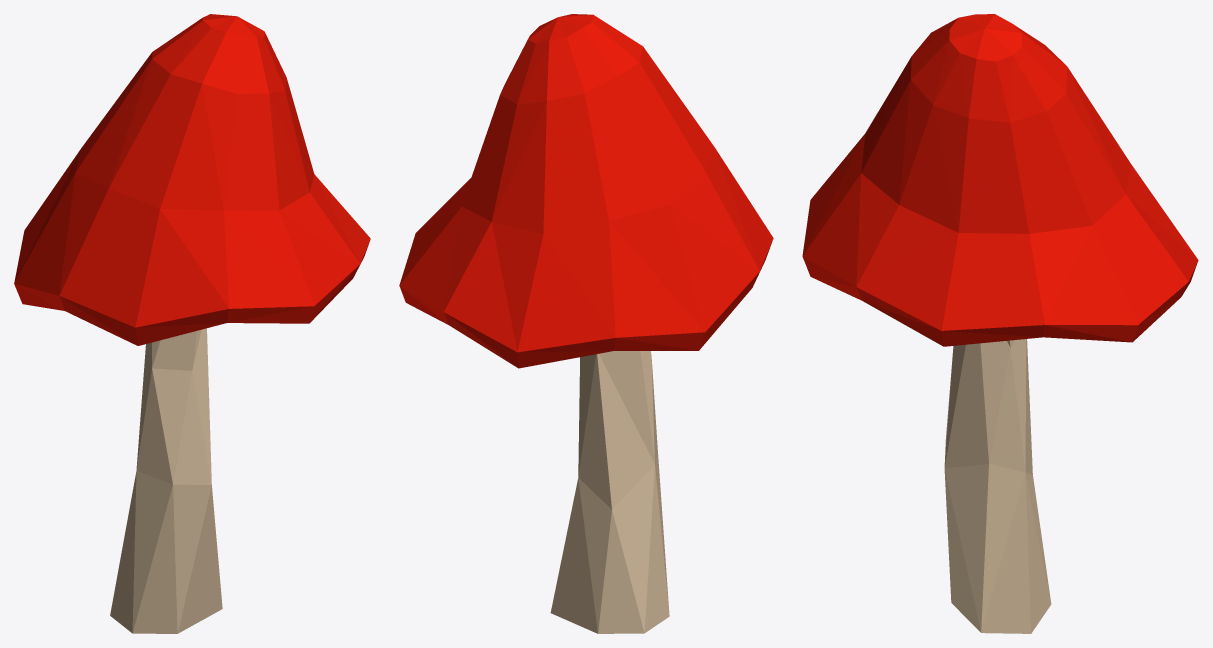
File: Mushroom 2_3.fbx
3 renders of one model, left to right at view 1: azimuth 30°, elevation 25°; view 2: azimuth 150°, elevation 25°; view 3: azimuth 270°, elevation 25°, orthographic. The views are drawn at different scales.
Parts seen in each view (by area): view 1: Mushroom 2_3; view 2: Mushroom 2_3; view 3: Mushroom 2_3.
Boxes of the visible parts, <box> form: Mushroom 2_3: <box>14,14,370,633</box>; Mushroom 2_3: <box>399,14,773,633</box>; Mushroom 2_3: <box>802,14,1198,633</box>.
Bounding box in the file's own units: 0.3067 × 0.559 × 0.3274.
